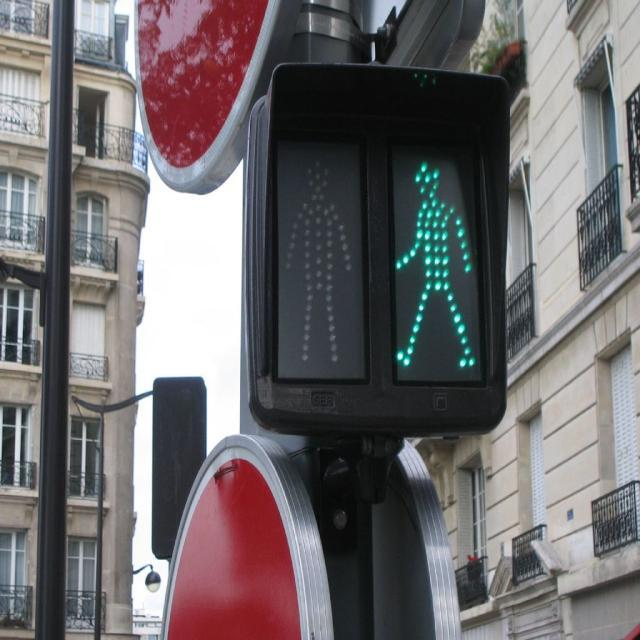traffic light: (248, 63, 510, 431)
